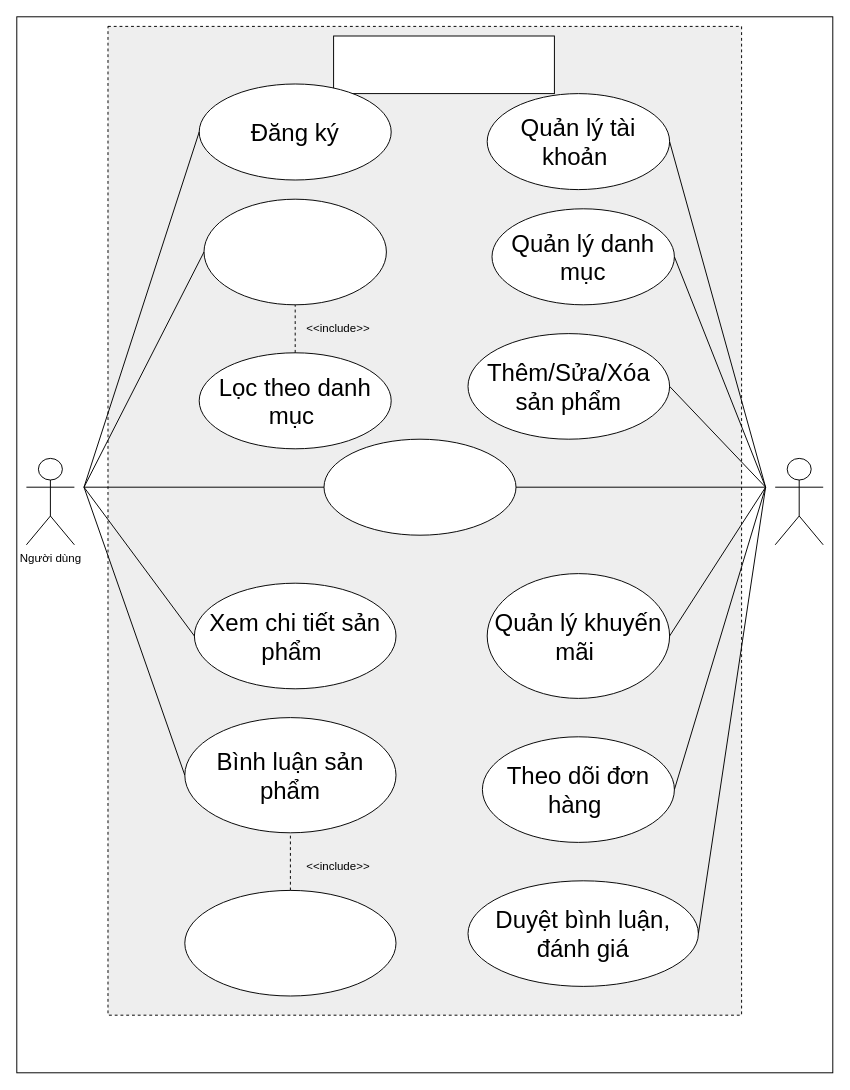
The diagram is 850 pixels wide and 1090 high, and some of its shapes have lost their labels. The centre of each missing label's shape, as x and y in pixels:
"Hệ Thống PolyShop" goes at pixel 443 64.
"Quản trị viên" goes at pixel 798 501.
"Tìm kiếm sản phẩm" goes at pixel 294 251.
"Đánh giá sản phẩm" goes at pixel 290 942.
"Đăng nhập" goes at pixel 419 486.
